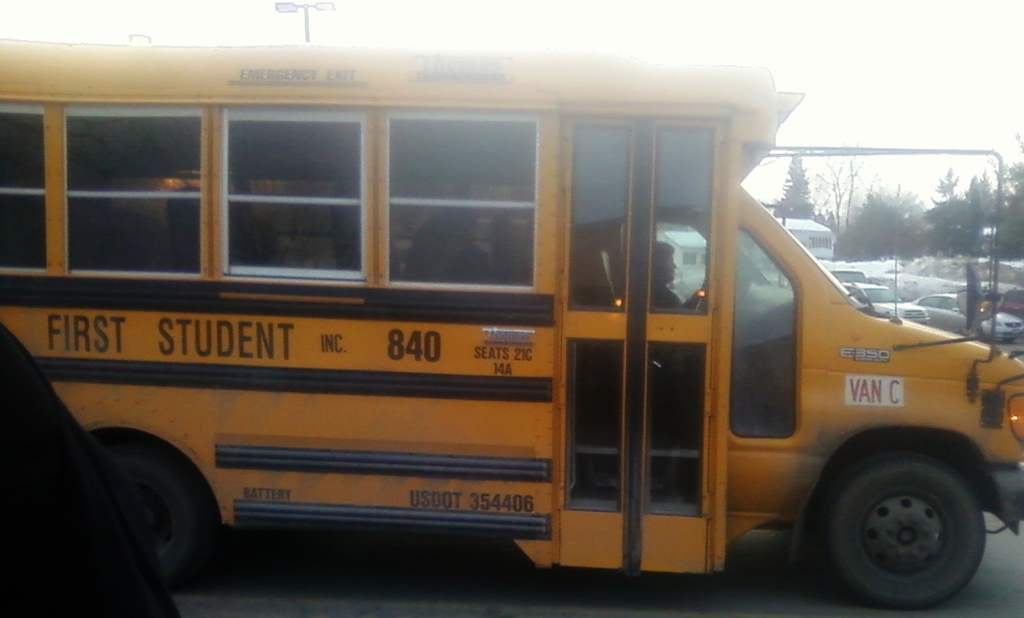Bus: (0, 38, 1024, 601)
